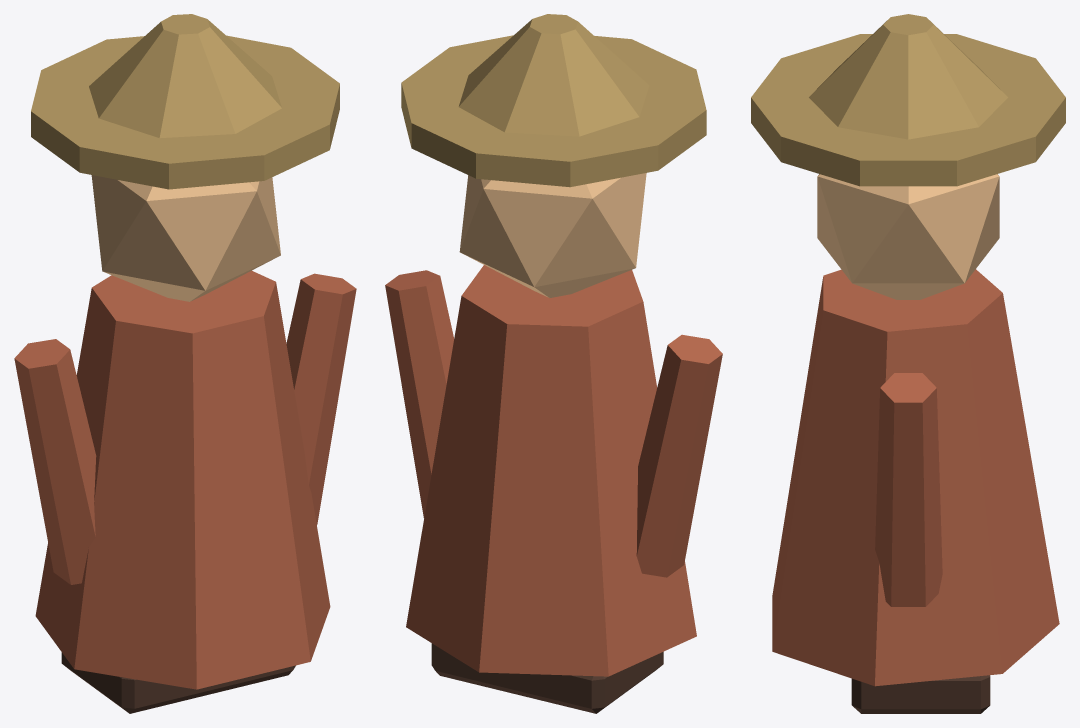
Rendered from character_citizen.glb.
3 views of the same model, side by side, from view 1: azimuth 30°, elevation 25°; view 2: azimuth 150°, elevation 25°; view 3: azimuth 270°, elevation 25° (orthographic).
Parts seen in each view (by area): view 1: Body, HatBrim, Head, HatCrown, Arm_L, Arm_R, Feet; view 2: Body, HatBrim, Head, HatCrown, Arm_L, Arm_R, Feet; view 3: Body, HatBrim, Head, HatCrown, Arm_R, Feet.
Boxes of the visible parts, x1,y1,x2,y2 form: Body: (35,270,330,689); HatBrim: (31,35,339,189); Head: (91,175,280,301); HatCrown: (89,14,281,138); Arm_L: (14,339,96,584); Arm_R: (286,273,356,524); Feet: (61,652,295,713); Body: (406,265,696,676); HatBrim: (401,35,706,187); Head: (459,173,646,297); HatCrown: (458,14,649,136); Arm_L: (636,334,722,577); Arm_R: (385,270,453,517); Feet: (431,643,663,713); Body: (772,269,1059,686); HatBrim: (751,34,1065,186); Head: (817,174,999,299); HatCrown: (809,14,1007,139); Arm_R: (875,373,942,606); Feet: (851,675,990,713).
Size of the model in its own units: 0.5994 by 1.14 by 0.5.
